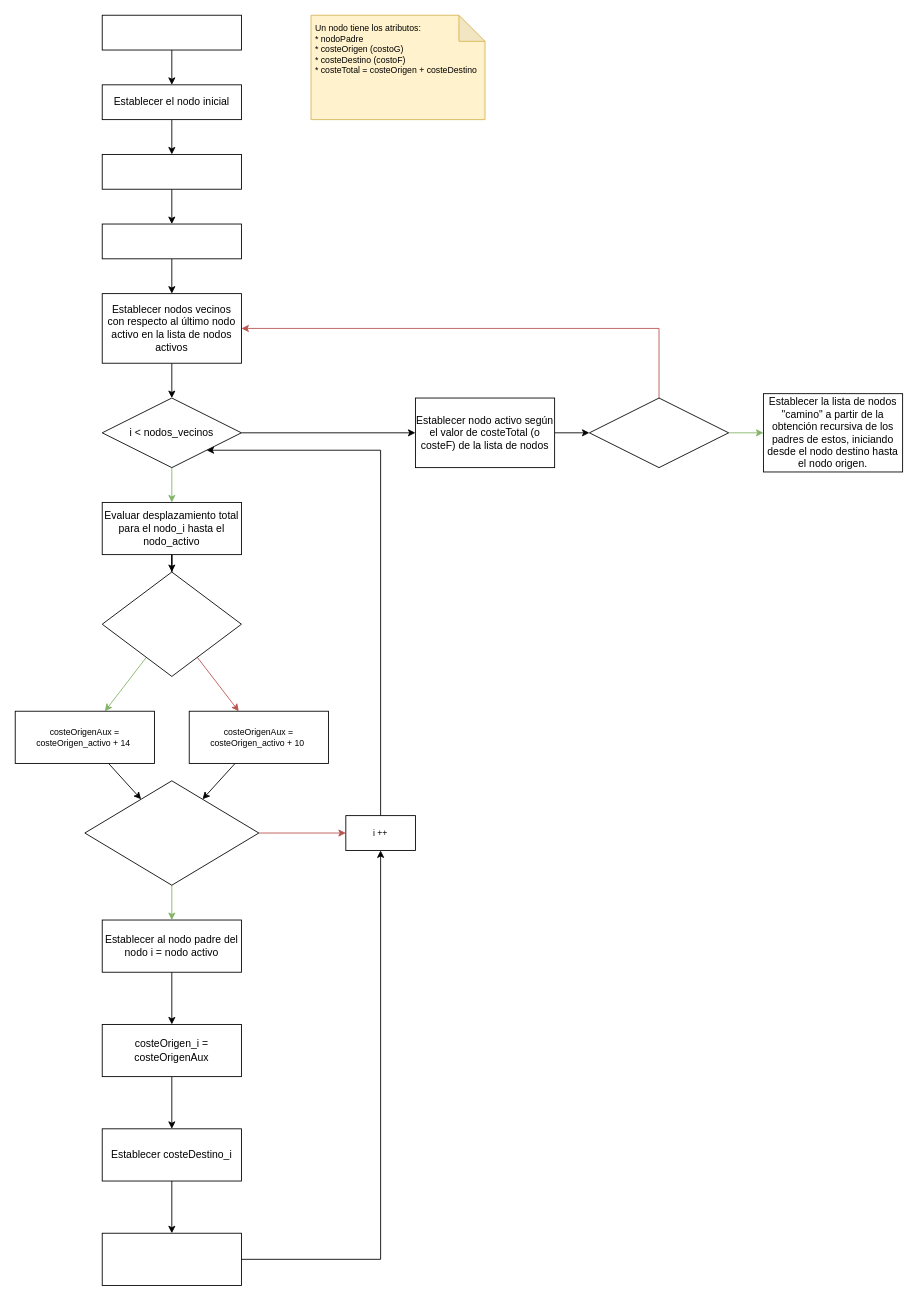
The diagram is 918 pixels wide and 1301 high, and some of its shapes have lost their labels. The shapes that lost their labels are listed below. From the top down, each one's box as (x1, y1, x2, y2) in pixels, then its label:
(101, 14, 241, 50): Crear lista de nodos
(101, 154, 241, 189): Añadir el nodo inicial a la lista de nodos activos
(101, 223, 241, 259): Establecer el nodo destino
(589, 397, 729, 468): Posición ultimo nodo activo = position nodo destino
(101, 571, 241, 676): Movimiento Diagonal con respecto al nodo_activo?
(84, 780, 259, 885): costeOrigenAux < costeOrigen_i ?
(101, 1232, 241, 1285): costeTotal_i = costeOrigen_i + CosteDestino
